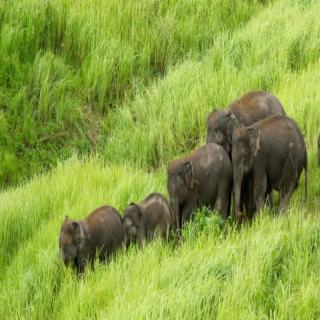Elephant: (230, 113, 309, 229), (166, 140, 233, 231), (54, 201, 128, 280), (120, 188, 176, 245)
